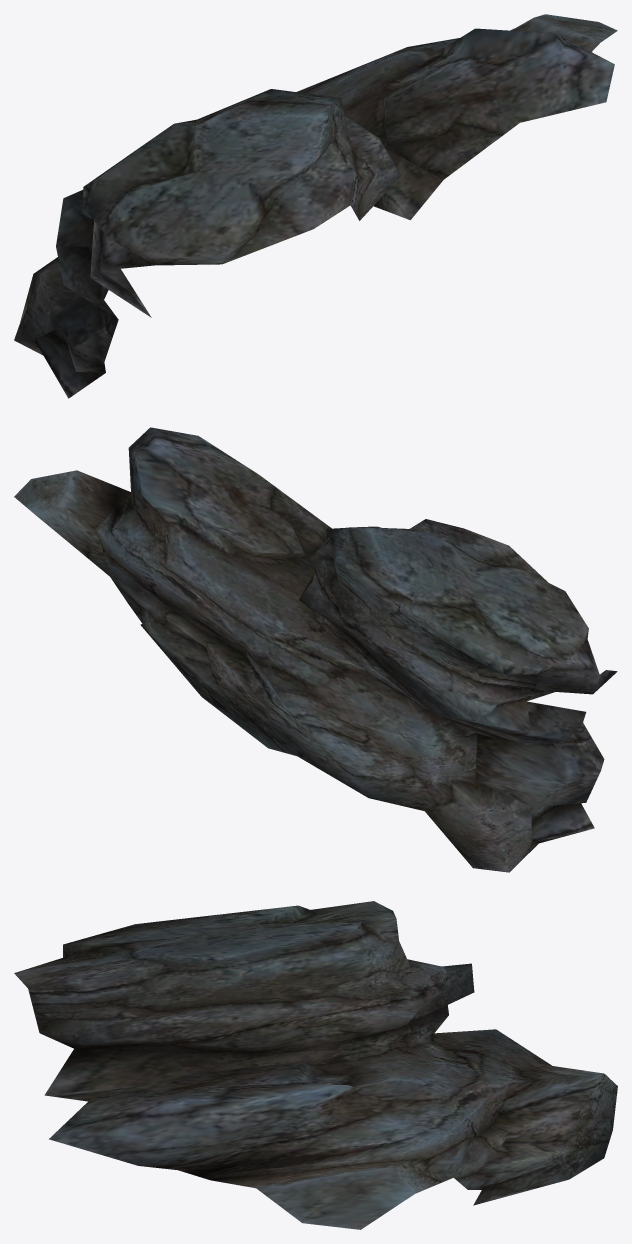
The model's file is S_Rock_Yellow034_H32.FBX.
The picture shows the model from 3 angles, top to bottom: view 1: azimuth 30°, elevation 25°; view 2: azimuth 150°, elevation 25°; view 3: azimuth 270°, elevation 25°; orthographic projection. The views are drawn at different scales.
Parts seen in each view (by area): view 1: S_Rock_Yellow034_H32; view 2: S_Rock_Yellow034_H32; view 3: S_Rock_Yellow034_H32.
Boxes of the visible parts, box(x1,y1,x2,y2) form: S_Rock_Yellow034_H32: box(14, 14, 617, 398); S_Rock_Yellow034_H32: box(14, 427, 617, 872); S_Rock_Yellow034_H32: box(14, 901, 617, 1229).
Size of the model in its own units: 1446 by 839 by 636.
1 material, 1 textured.
